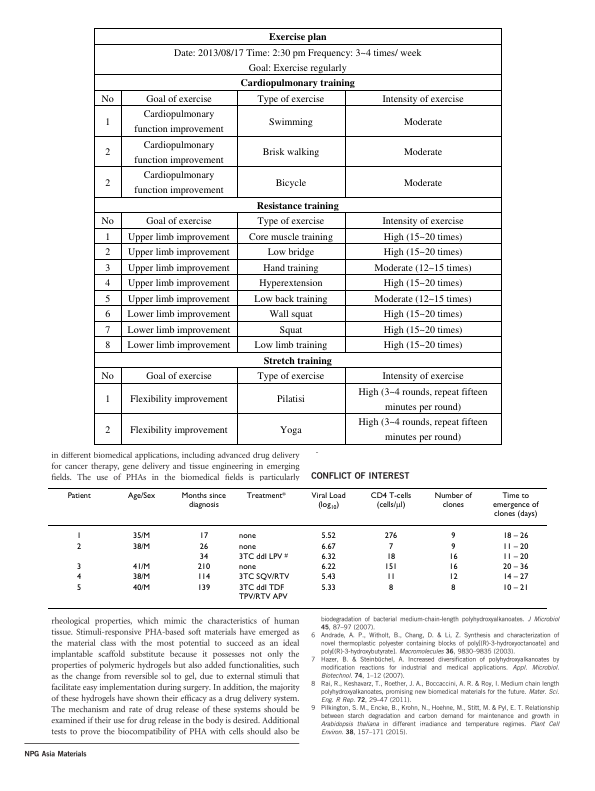bordered: (93, 26, 501, 444)
borderless: (47, 486, 547, 608)
cell: (172, 46, 422, 74), (357, 415, 488, 444), (357, 385, 488, 413), (133, 107, 224, 136), (133, 138, 224, 166), (133, 169, 224, 197), (239, 76, 355, 90), (126, 307, 231, 321), (126, 245, 230, 259), (491, 490, 539, 519), (126, 323, 231, 336), (126, 339, 231, 352), (126, 230, 230, 243), (126, 261, 230, 274), (126, 277, 230, 290), (126, 292, 230, 305), (373, 261, 472, 274), (373, 292, 472, 305), (129, 393, 228, 406), (129, 423, 228, 436), (381, 214, 464, 228), (382, 245, 463, 259), (382, 307, 463, 321), (247, 230, 333, 243), (255, 199, 339, 212), (381, 92, 464, 105), (381, 370, 464, 383), (382, 230, 463, 243), (382, 277, 463, 290), (382, 323, 463, 336), (382, 339, 463, 352), (253, 292, 328, 305), (253, 339, 328, 352), (256, 214, 325, 228), (238, 582, 288, 601), (369, 489, 412, 511), (145, 214, 212, 228), (262, 354, 332, 367), (256, 92, 325, 105), (256, 370, 325, 383), (180, 490, 226, 509), (145, 92, 212, 105), (145, 370, 212, 383), (258, 277, 323, 290), (267, 30, 327, 44), (261, 145, 320, 159), (310, 490, 346, 511), (262, 261, 319, 274), (433, 490, 472, 509), (266, 245, 315, 259), (268, 307, 313, 321), (267, 115, 313, 128), (402, 145, 443, 159), (402, 115, 443, 128), (402, 176, 443, 189), (238, 572, 290, 582), (238, 551, 288, 561), (274, 176, 307, 189), (245, 490, 286, 500), (275, 393, 305, 406), (278, 323, 303, 336), (278, 423, 302, 436), (126, 490, 156, 500), (502, 531, 529, 541), (502, 541, 529, 551), (502, 562, 529, 572), (502, 572, 529, 582), (502, 582, 529, 592), (66, 490, 91, 500), (502, 552, 529, 561), (100, 214, 114, 228), (132, 531, 151, 541), (132, 541, 151, 551), (132, 562, 151, 572), (132, 572, 151, 582), (132, 582, 151, 592), (100, 92, 114, 105), (100, 370, 114, 383), (238, 531, 256, 541), (238, 541, 256, 551), (238, 562, 256, 572), (320, 531, 336, 541), (320, 541, 336, 551), (320, 562, 336, 572), (320, 572, 336, 582), (320, 582, 336, 592), (383, 531, 398, 541), (196, 562, 211, 572), (383, 562, 398, 572), (196, 572, 211, 582), (196, 582, 211, 592), (320, 552, 336, 561), (198, 531, 209, 541), (198, 541, 209, 551), (385, 572, 396, 582), (448, 562, 458, 572), (448, 572, 458, 582), (198, 552, 209, 561), (385, 552, 396, 561), (104, 145, 111, 159), (104, 245, 111, 259), (104, 307, 111, 321), (104, 115, 111, 128), (104, 176, 111, 189), (104, 230, 111, 243), (104, 261, 111, 274), (104, 277, 111, 290), (104, 292, 111, 305), (104, 323, 111, 336), (104, 339, 111, 352), (104, 393, 111, 406), (104, 423, 111, 436), (448, 552, 458, 561), (387, 541, 394, 551), (387, 582, 394, 592), (76, 531, 82, 541), (450, 531, 456, 541), (76, 541, 82, 551), (450, 541, 456, 551), (76, 562, 82, 572), (76, 572, 82, 582), (76, 582, 82, 592), (450, 582, 456, 592)
